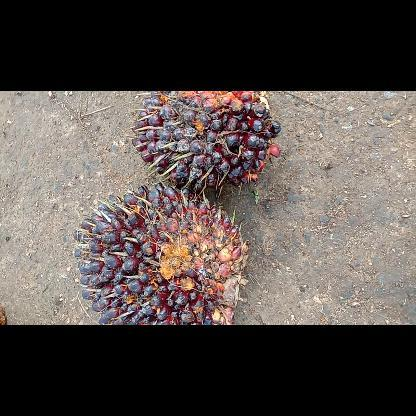Kurang masak: (72, 182, 250, 324), (129, 90, 285, 194)
